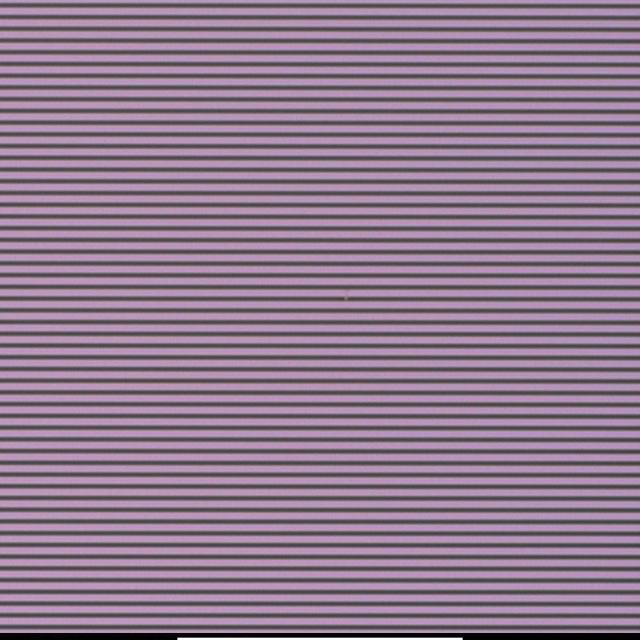03_intrusion: (343, 290, 351, 302)
